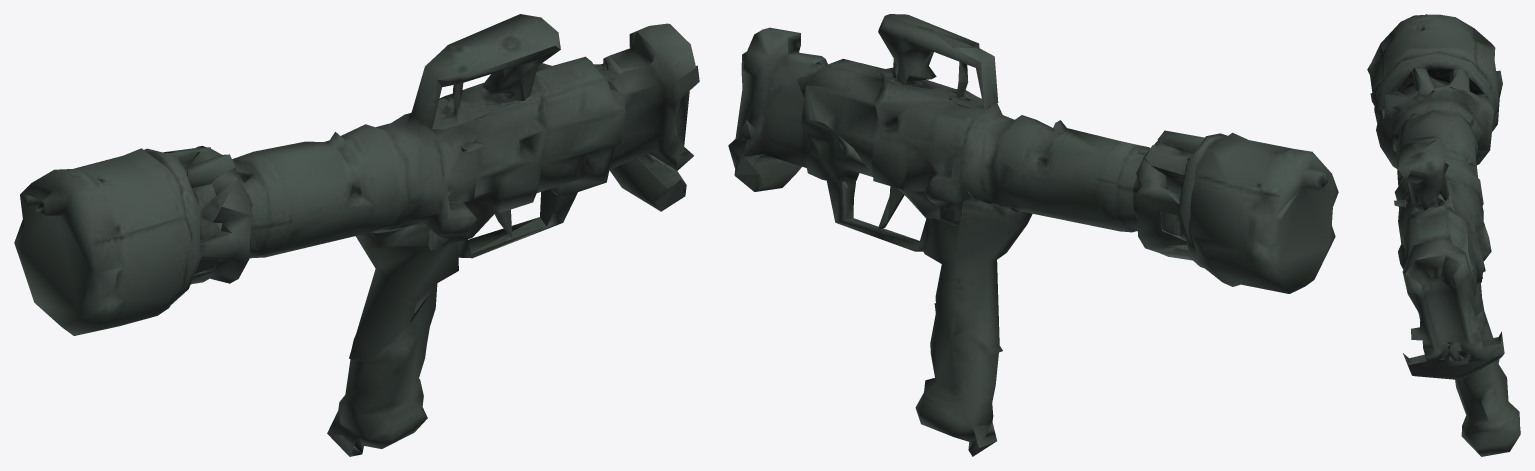
File: launcher-rig.glb
The picture shows the model from 3 angles, left to right: view 1: azimuth 30°, elevation 25°; view 2: azimuth 150°, elevation 25°; view 3: azimuth 270°, elevation 25°; orthographic projection. The views are drawn at different scales.
Visible parts, largest first — view 1: HMH Weapon | launcher-rig; view 2: HMH Weapon | launcher-rig; view 3: HMH Weapon | launcher-rig.
Part boxes in pixels (bbox=[...]): HMH Weapon | launcher-rig: bbox=[14, 14, 699, 456]; HMH Weapon | launcher-rig: bbox=[728, 14, 1338, 456]; HMH Weapon | launcher-rig: bbox=[1367, 14, 1520, 456].
Bounding box in the file's own units: 0.7999 × 0.5018 × 0.2025.
Materials: 1 (1 with a texture image).
